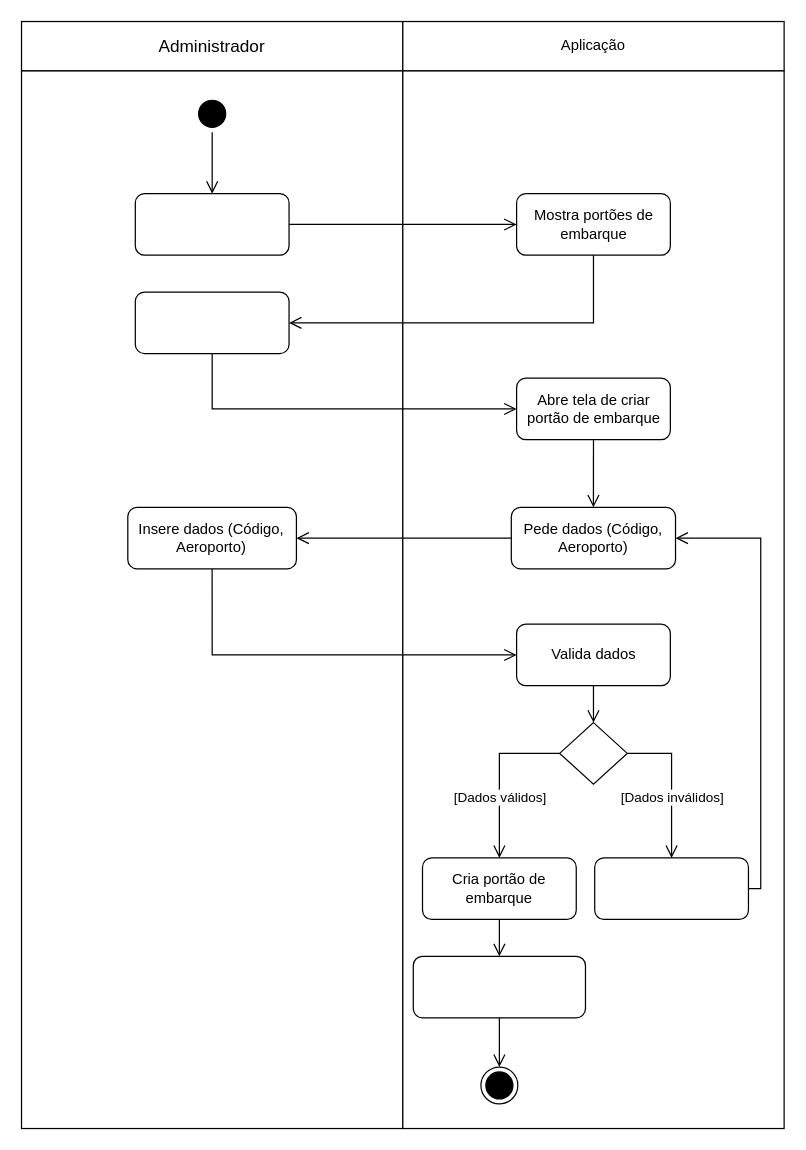
Image size: 806x1150. Some labels were removed from this diagram. The centre of each missing label's shape, as x and y in pixels:
"Entra na tela de ver portões de embarque" belongs at pixel 211 223.
"Escolhe criar portão de embarque" belongs at pixel 211 322.
"Informa que o portão de embarque foi criado com sucesso" belongs at pixel 498 986.
"Informa que os dados são inválidos" belongs at pixel 670 888.
